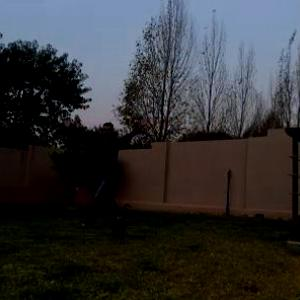takeoff: (89, 106, 184, 225)
